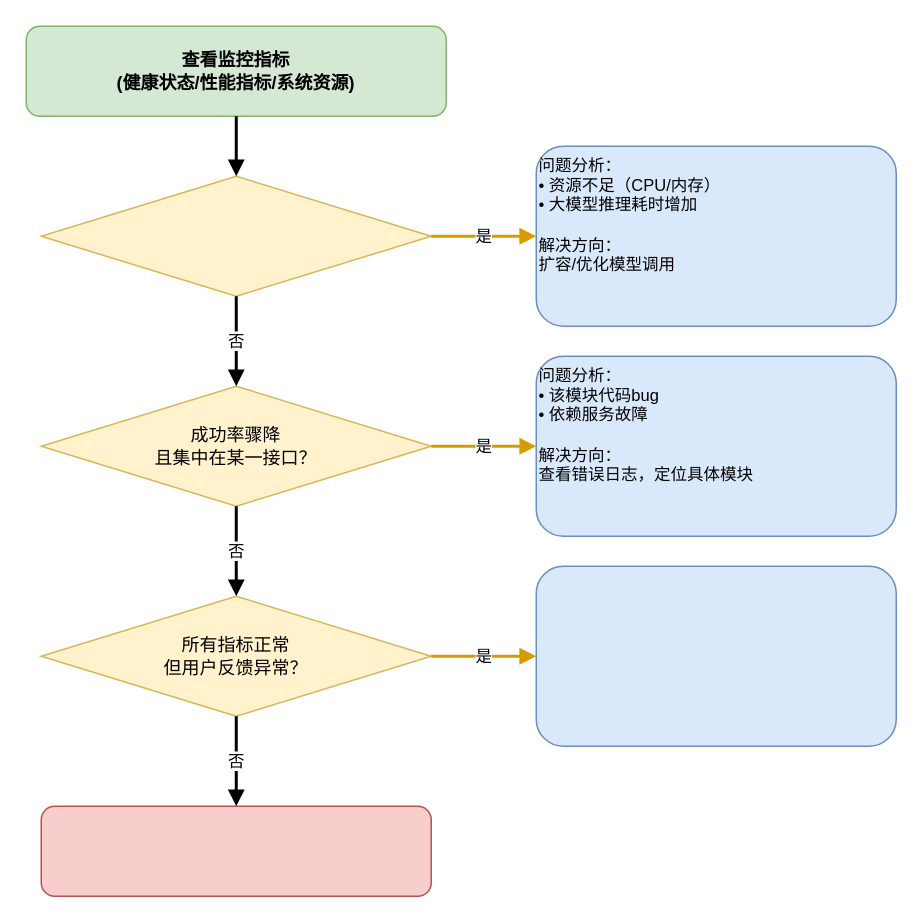
This 923x923 diagram has some shape labels left out. Each missing label, with the centre of its shape:
"响应延迟飙升 但成功率正常？" belongs at (235,235).
"继续深入排查 或联系技术支持" belongs at (235,850).
"问题分析： • 前端交互问题 • 网络问题 解决方向： 检查前端日志和网络连接" belongs at (715,655).
